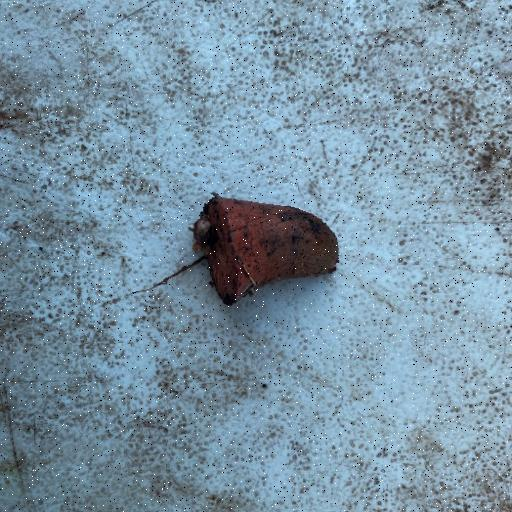Waste: (190, 191, 340, 307)
